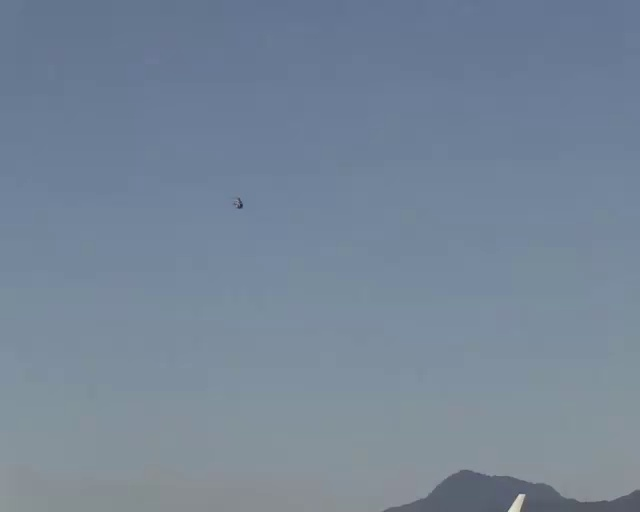HELICOPTER: (232, 196, 244, 209)
